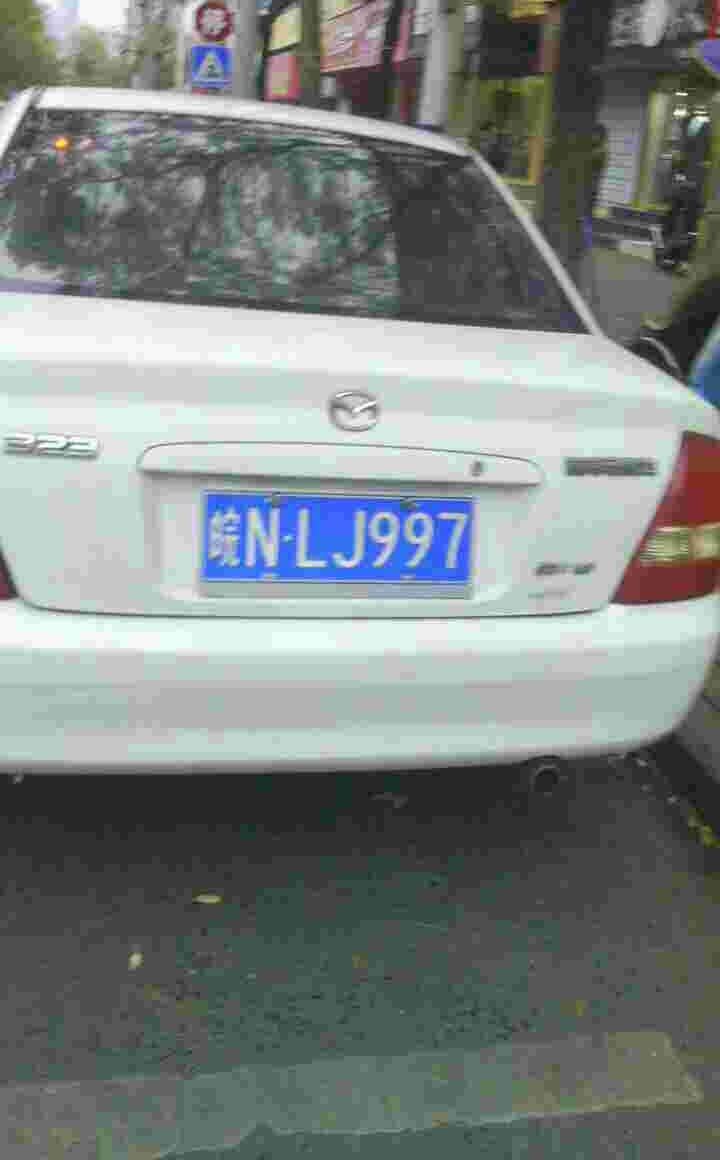license_plate: (196, 491, 476, 586)
